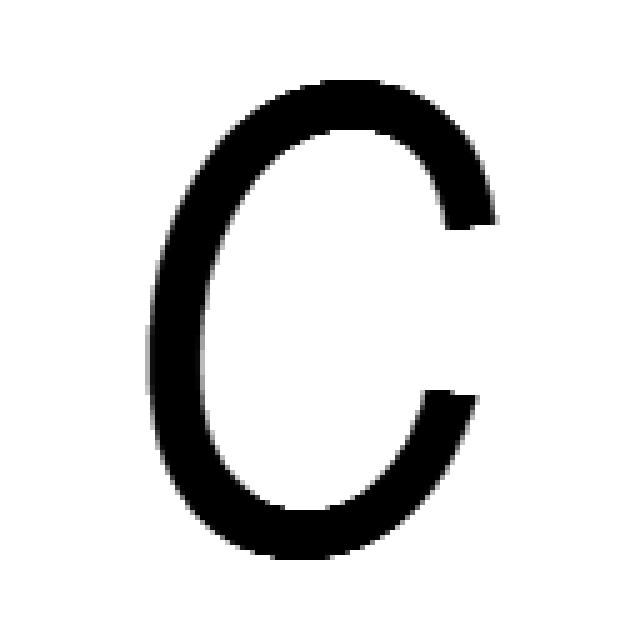C: (150, 80, 500, 565)
